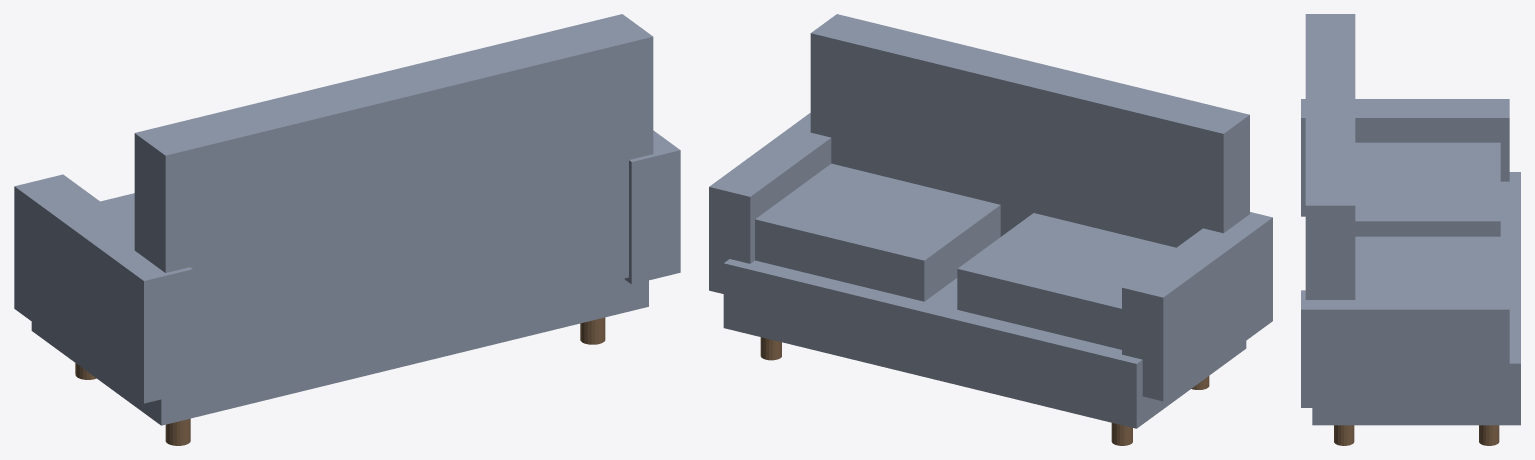
Rendered from Sofa.glb.
3 views of the same model, side by side, from view 1: azimuth 30°, elevation 25°; view 2: azimuth 150°, elevation 25°; view 3: azimuth 270°, elevation 25° (orthographic). The views are drawn at different scales.
Parts seen in each view (by area): view 1: Backrest, ArmLeft, Seat, ArmRight; view 2: Backrest, Seat, CushionRight, ArmLeft, CushionLeft, ArmRight; view 3: ArmRight, Backrest, CushionLeft, CushionRight, ArmLeft, Seat, Leg_2, Leg_4.
Boxes of the visible parts, bbox=[...] form: Backrest: bbox=[134, 14, 653, 383]; ArmLeft: bbox=[14, 174, 192, 403]; Seat: bbox=[31, 278, 648, 425]; ArmRight: bbox=[624, 130, 680, 284]; Backrest: bbox=[810, 14, 1249, 247]; Seat: bbox=[723, 259, 1246, 428]; CushionRight: bbox=[755, 163, 1000, 301]; ArmLeft: bbox=[1122, 212, 1272, 401]; CushionLeft: bbox=[957, 213, 1175, 349]; ArmRight: bbox=[709, 113, 831, 293]; ArmRight: bbox=[1301, 290, 1509, 407]; Backrest: bbox=[1305, 14, 1355, 299]; CushionLeft: bbox=[1355, 142, 1500, 236]; CushionRight: bbox=[1355, 236, 1500, 290]; ArmLeft: bbox=[1301, 99, 1509, 216]; Seat: bbox=[1312, 172, 1520, 425]; Leg_2: bbox=[1334, 425, 1354, 445]; Leg_4: bbox=[1479, 425, 1499, 445].
Bounding box in the file's own units: 2.2 × 1.22 × 0.97.
